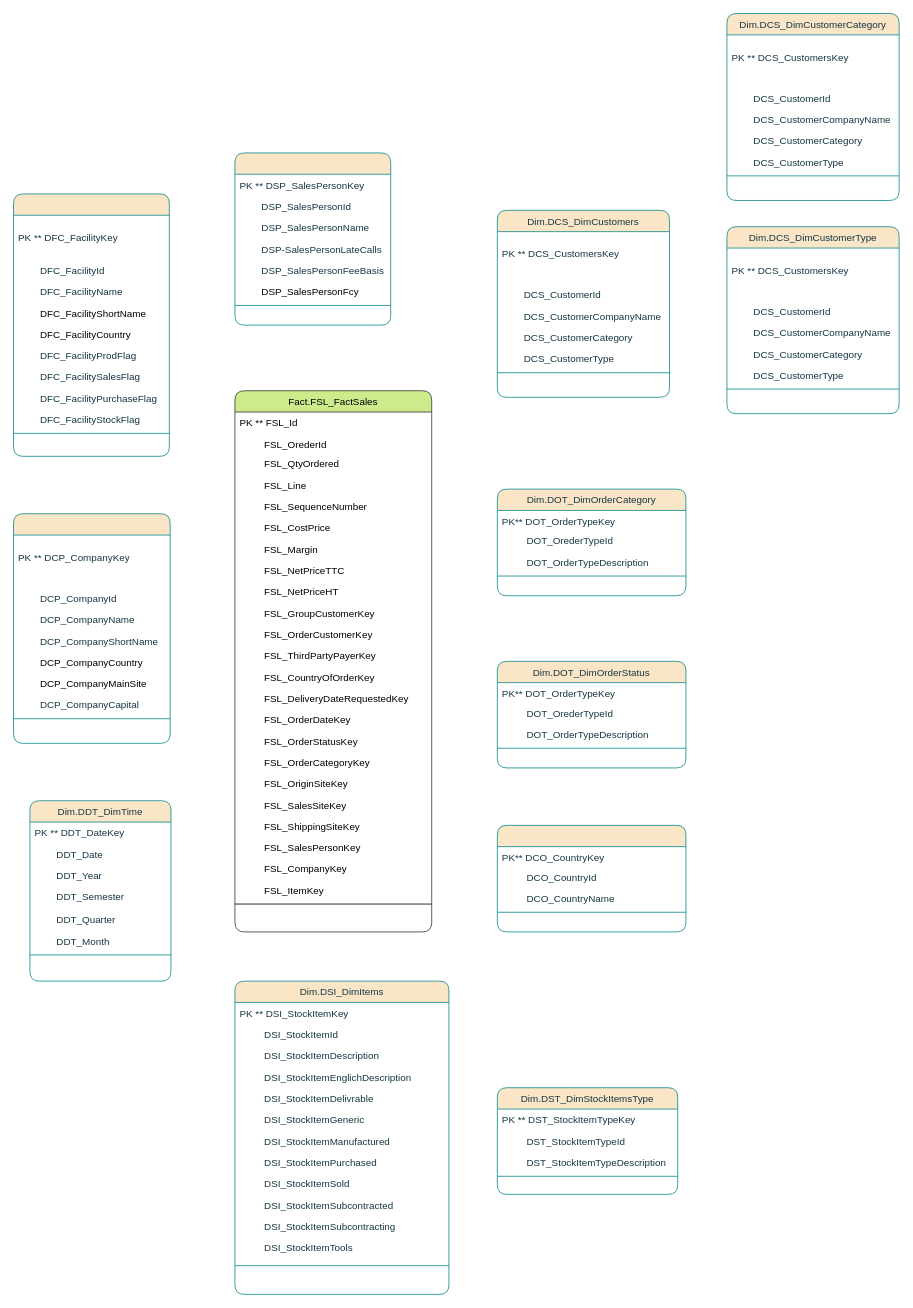
This 913x1308 diagram has some shape labels left out. The box of each missing label's shape, as (x1, y1, x2, y2) in pixels:
Dim.DCO_DimCountry: (497, 825, 686, 932)
Dim.DCP_DimCompany: (13, 513, 170, 743)
Dim.DFC_DimFacility: (13, 193, 169, 456)
Dim.DSP_DIMSalesPersons: (234, 152, 391, 325)
